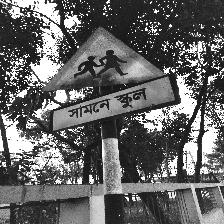School-in-front: (42, 26, 180, 134)
